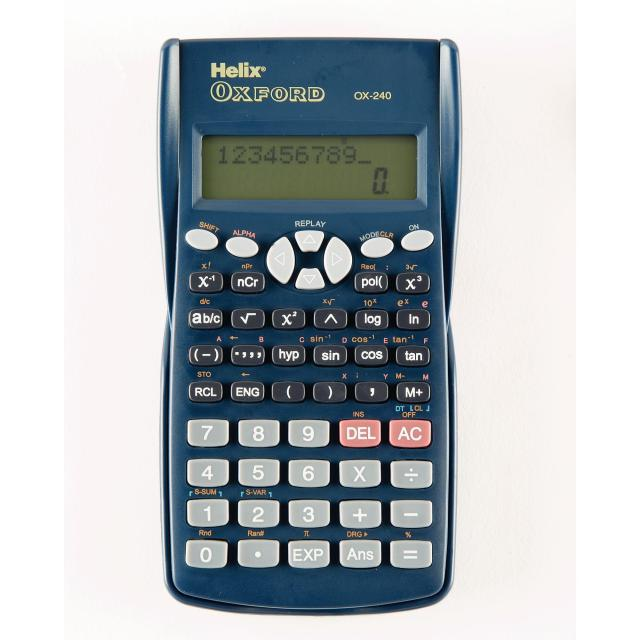Calculator: (80, 21, 566, 630)
